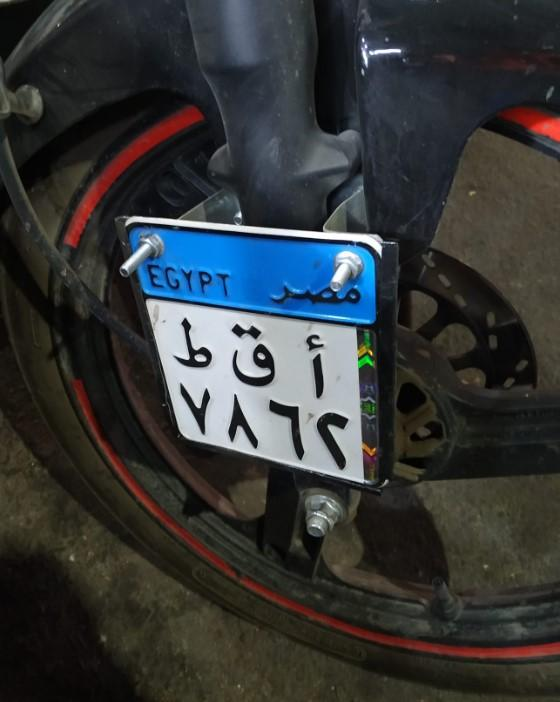License Plate: (129, 212, 390, 484)
